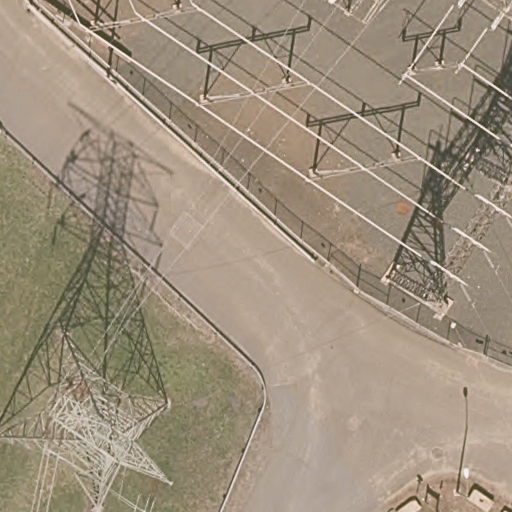TT: (9, 332, 178, 512)
